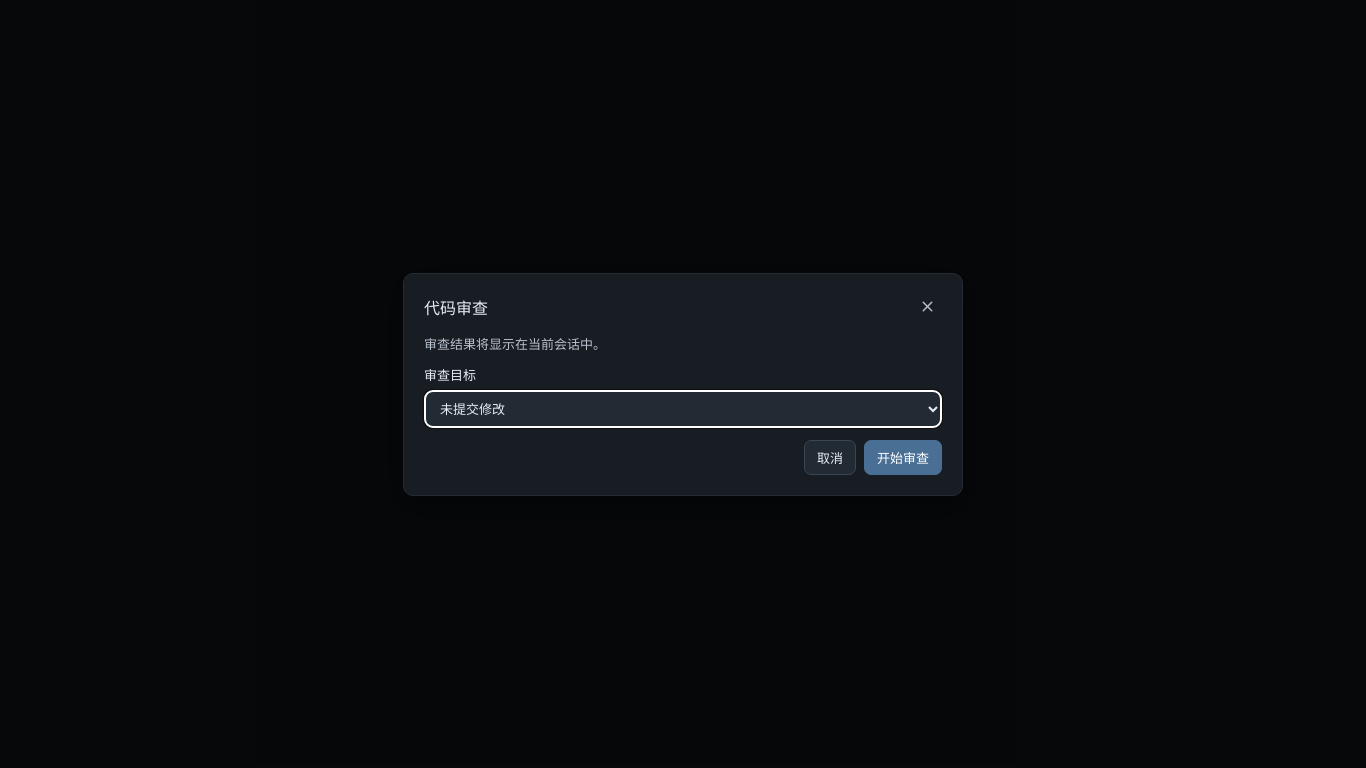
Test case: CodexReviewDialog › keeps inputs after failure and blocks duplicate requests
Select "对比分支" in the dropdown labelled "审查目标" at (683, 408), box [424, 390, 942, 428]
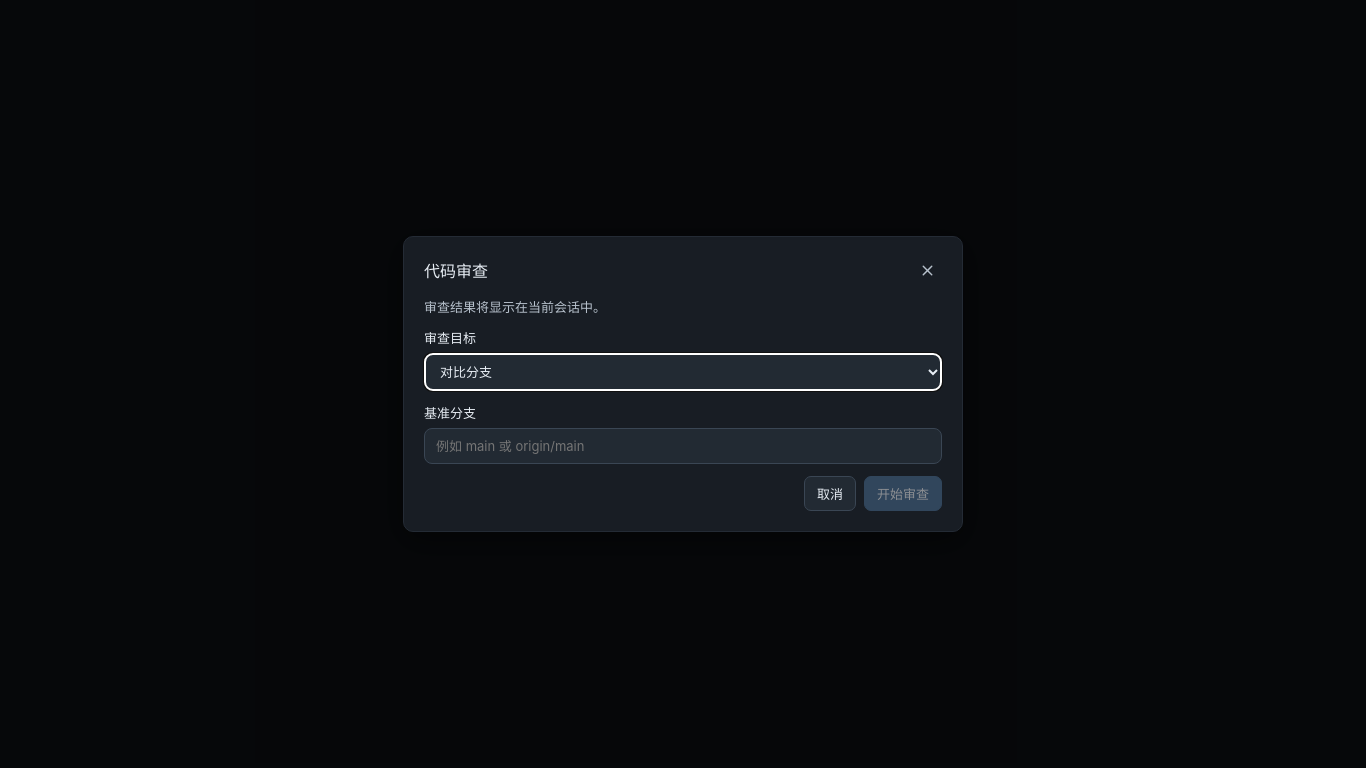
Type "topic" into the field labelled "基准分支" at (683, 446), box [424, 428, 942, 464]
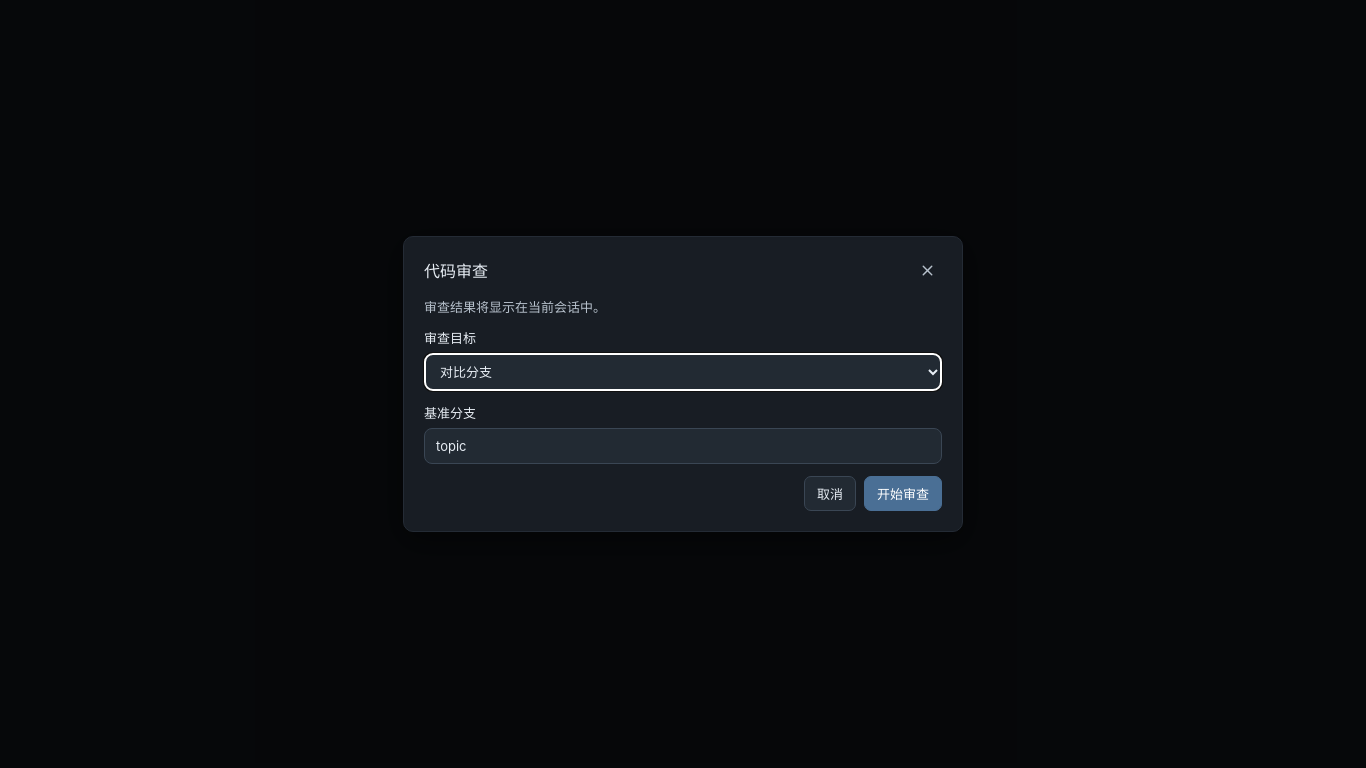
Click the button "开始审查" at (903, 494), box [864, 476, 942, 511]
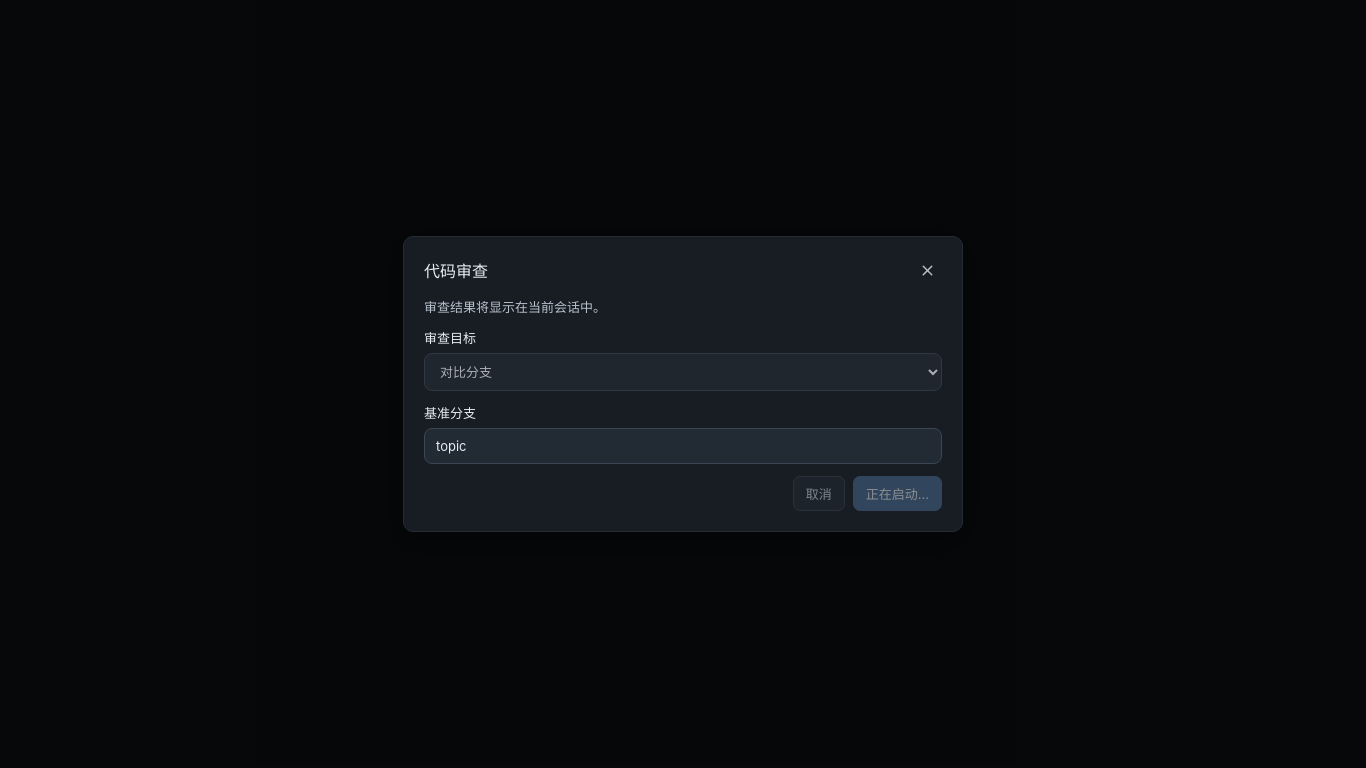
Submit the form "正在启动…", box [404, 297, 962, 531]
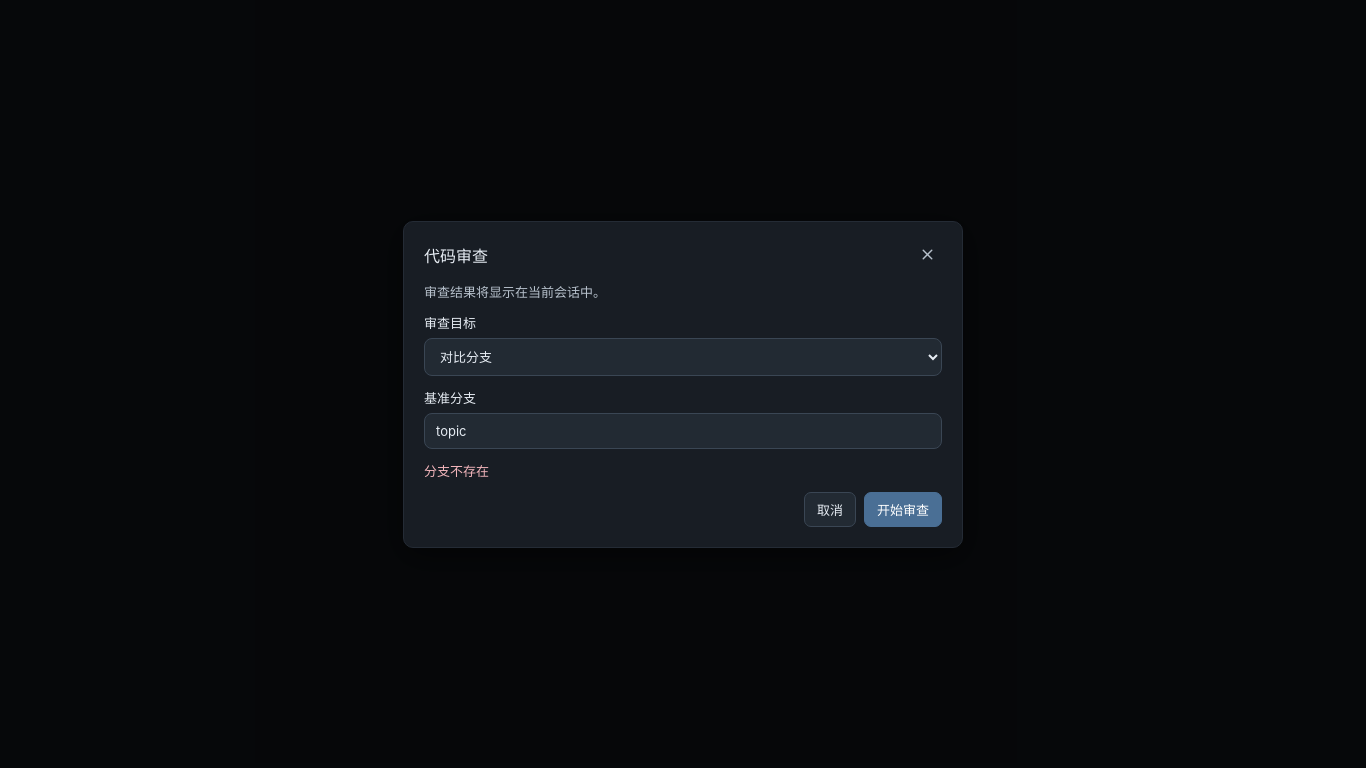
Expected: the message reads "分支不存在", [424, 462, 489, 478]
